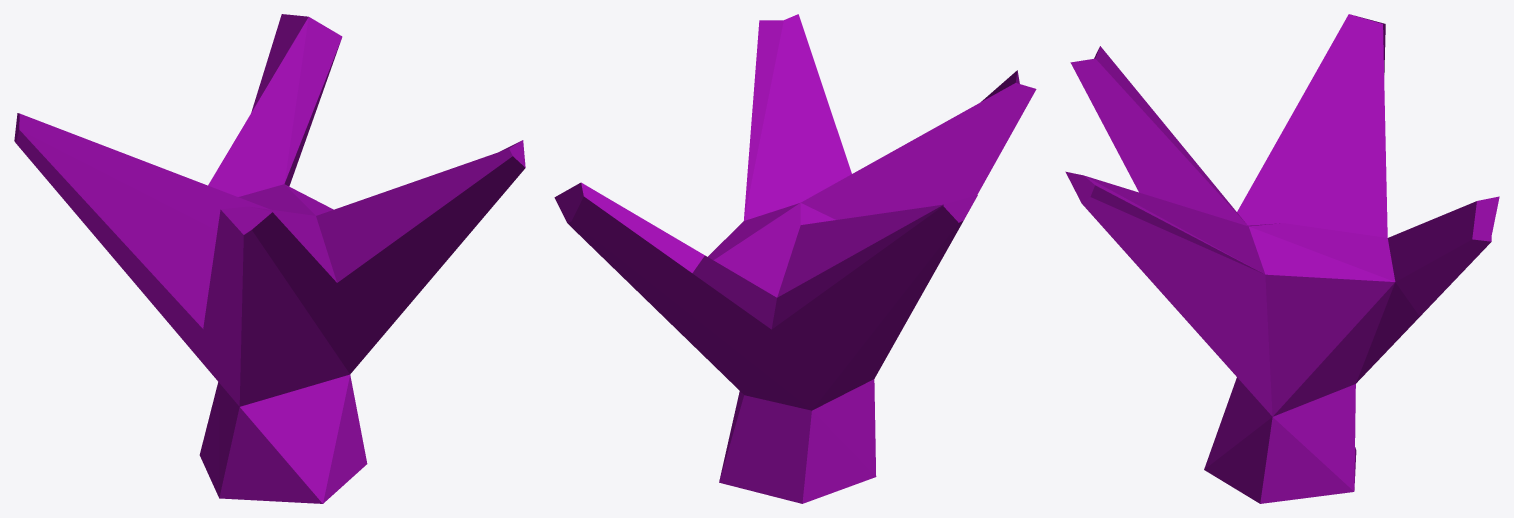
Rendered from Coral1SMALL.glb.
3 renders of one model, left to right at view 1: azimuth 30°, elevation 25°; view 2: azimuth 150°, elevation 25°; view 3: azimuth 270°, elevation 25°, orthographic. The views are drawn at different scales.
Visible parts, largest first — view 1: Icosphere.004; view 2: Icosphere.004; view 3: Icosphere.004.
Boxes of the visible parts, bbox=[...] form: Icosphere.004: bbox=[14, 14, 525, 503]; Icosphere.004: bbox=[554, 14, 1036, 503]; Icosphere.004: bbox=[1065, 14, 1499, 503].
Size of the model in its own units: 1.39 by 1.28 by 1.43.
